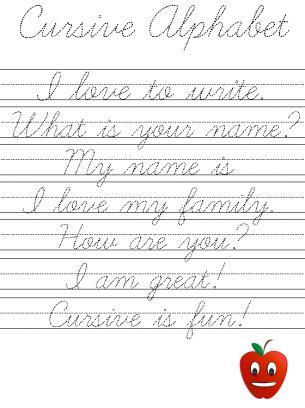text: (19, 1, 291, 52), (9, 109, 302, 152), (21, 185, 275, 227), (46, 299, 253, 341), (55, 221, 251, 263), (35, 69, 265, 103), (63, 259, 227, 303), (61, 148, 236, 189), (272, 305, 272, 306)
